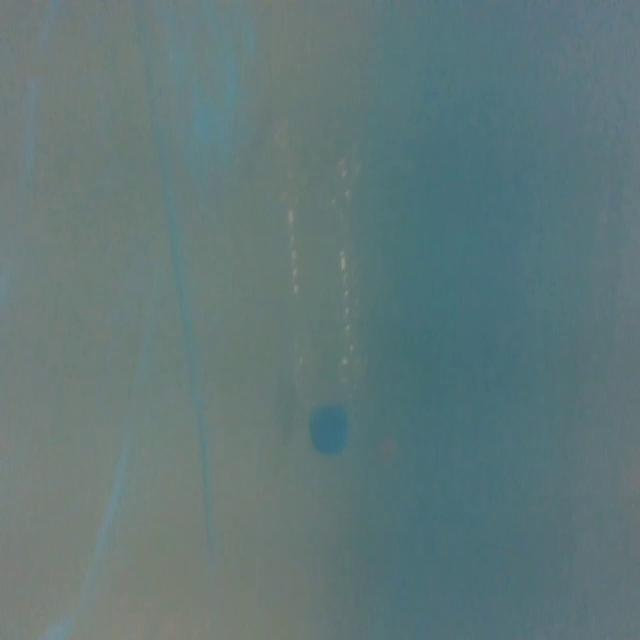plastic bottle: (262, 136, 389, 463)
